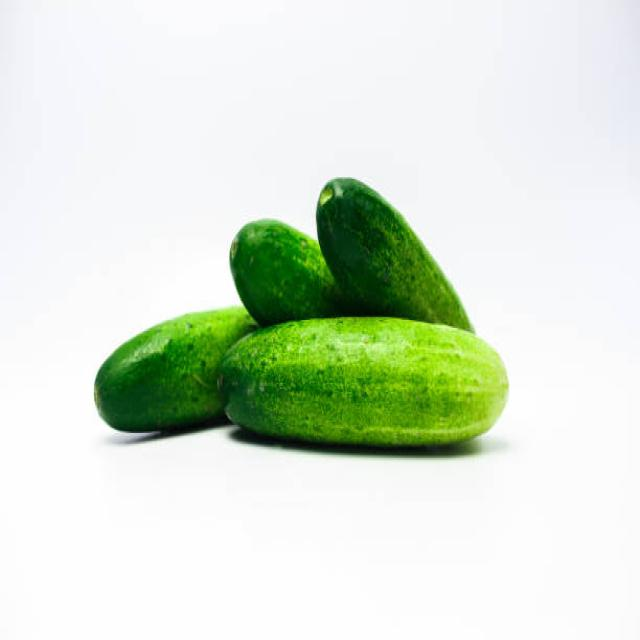cucumber: (218, 318, 509, 449), (316, 174, 478, 338), (94, 305, 268, 432)
